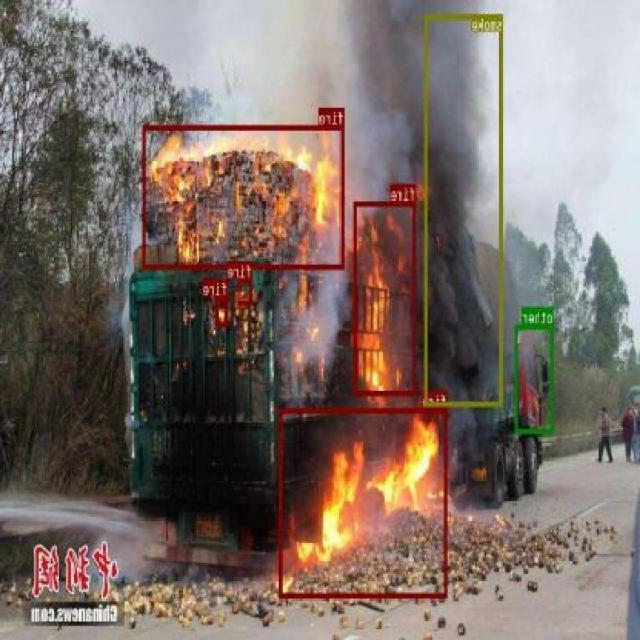Fire: (280, 408, 448, 597), (142, 124, 346, 270), (354, 200, 417, 394), (238, 277, 253, 305), (217, 296, 230, 326)
Smoke: (426, 12, 503, 406)
